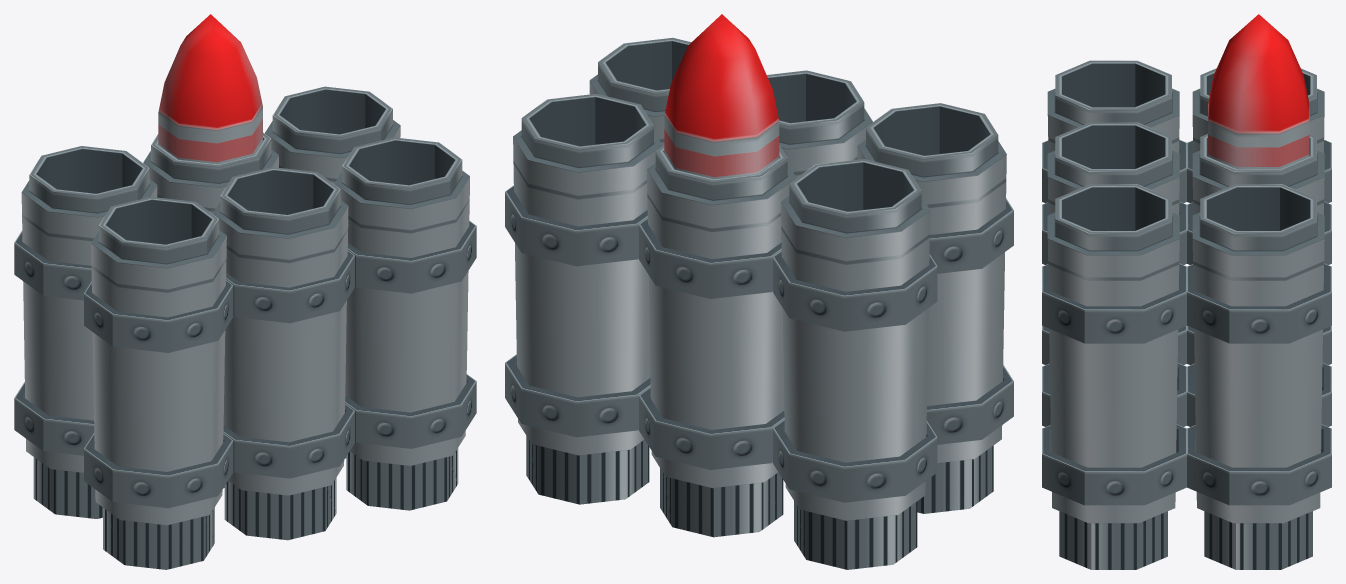
Rendered from item_multimissile.FBX.
3 views of the same model, side by side, from view 1: azimuth 30°, elevation 25°; view 2: azimuth 150°, elevation 25°; view 3: azimuth 270°, elevation 25° (orthographic). The views are drawn at different scales.
Parts seen in each view (by area): view 1: Missile_stand003, missile001; view 2: Missile_stand003, missile001; view 3: Missile_stand003, missile001.
Boxes of the visible parts, <box> form: Missile_stand003: <box>14,86,476,569</box>; missile001: <box>158,14,262,163</box>; Missile_stand003: <box>505,37,1013,569</box>; missile001: <box>664,14,779,178</box>; Missile_stand003: <box>1042,60,1331,569</box>; missile001: <box>1208,14,1309,168</box>.
Bounding box in the file's own units: 0.3175 × 0.3768 × 0.2102.
